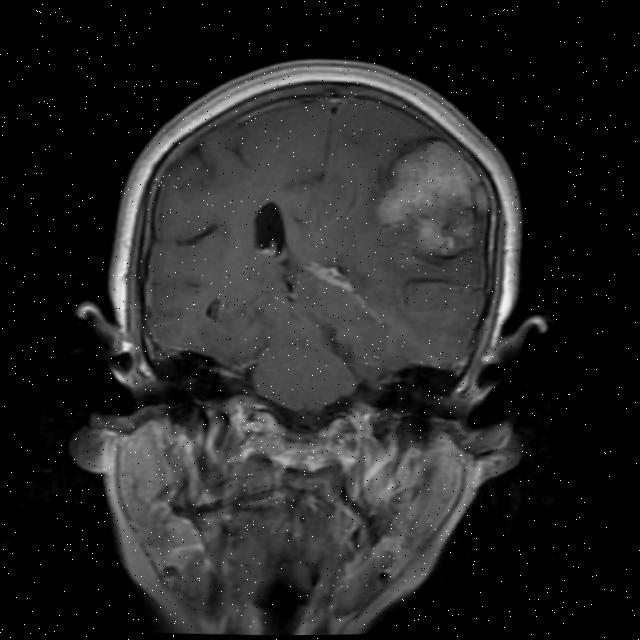Meningioma: (373, 136, 494, 260)
